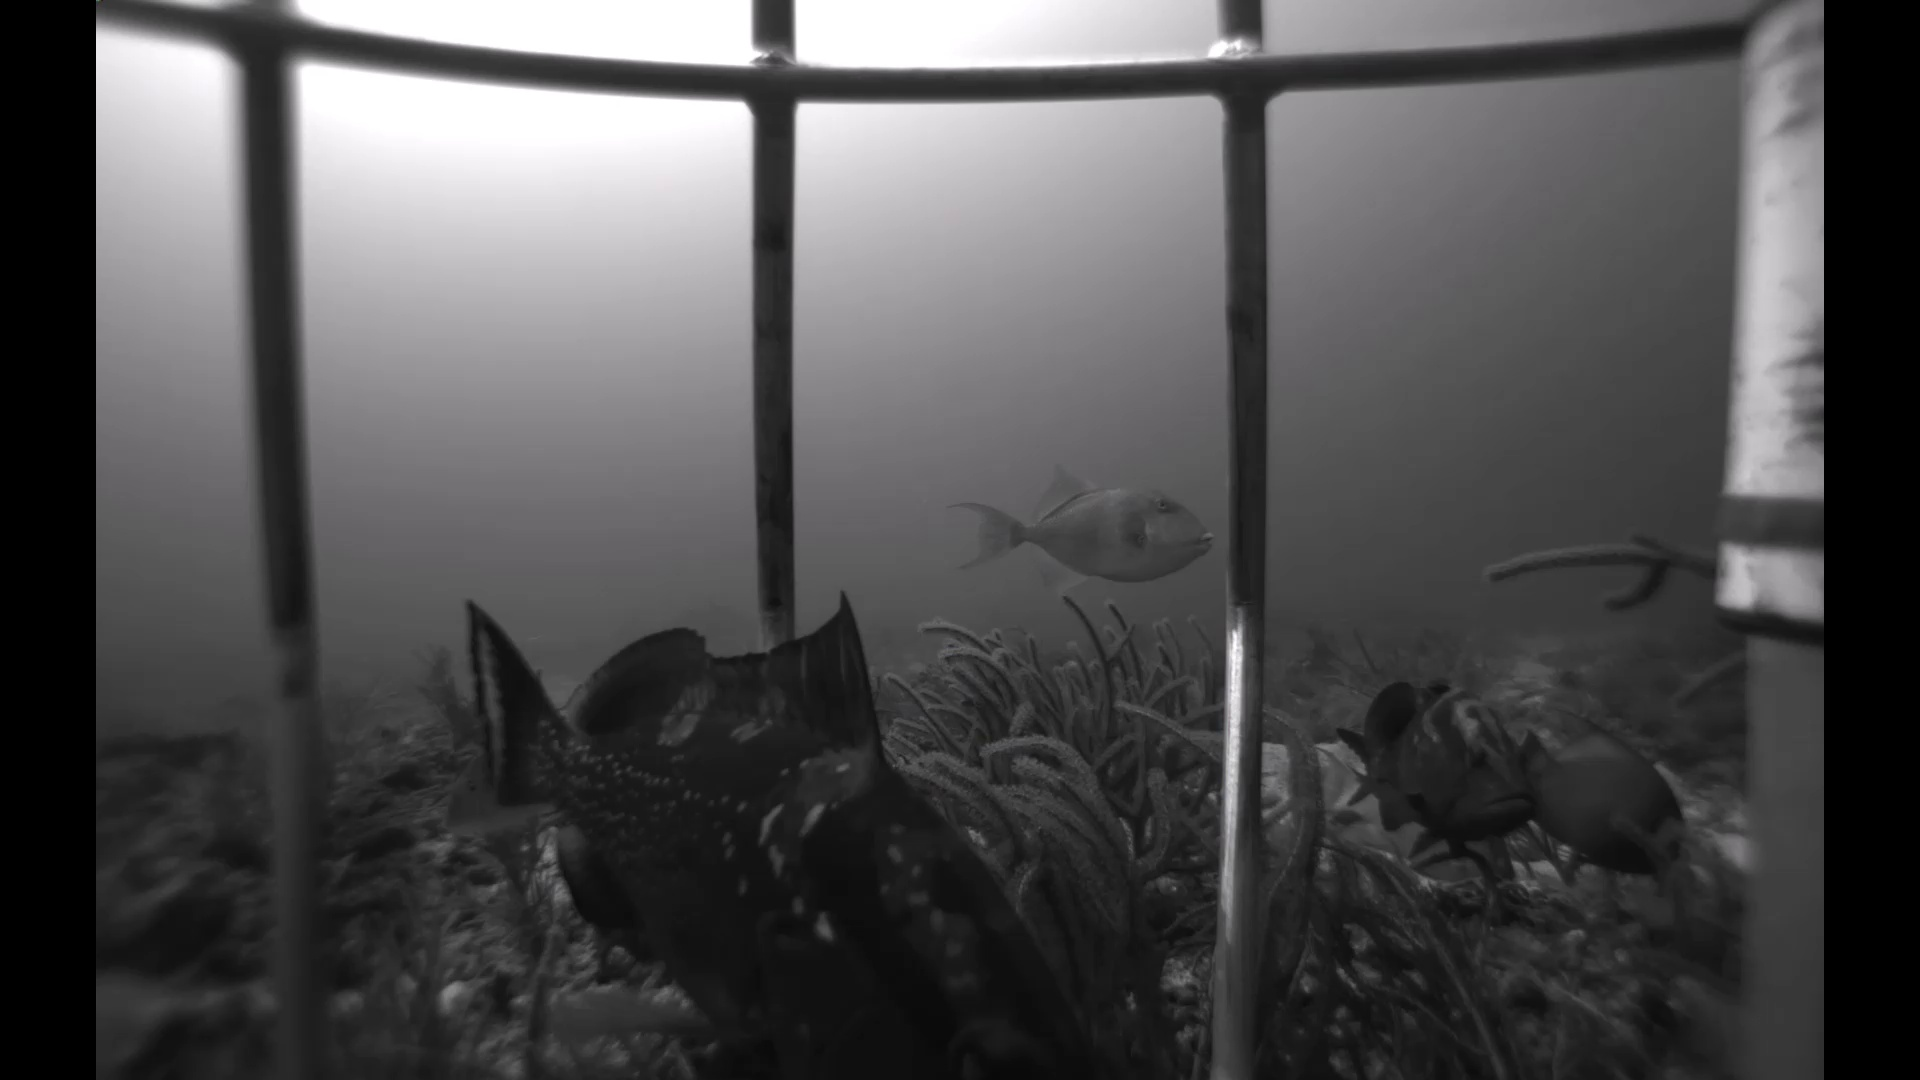BALISTESCAPRISCUS-189030502: (932, 458, 1220, 599)
CALAMUSNODOSUS-170210608: (411, 731, 558, 866)
EPINEPHELUSMORIO-170021211: (440, 560, 1098, 1071), (1308, 659, 1542, 856)
LACHNOLAIMUSMAXIMUS-170281801: (1304, 738, 1524, 893)
POMACANTHUSARCUATUS-170290201: (1501, 687, 1698, 877)
